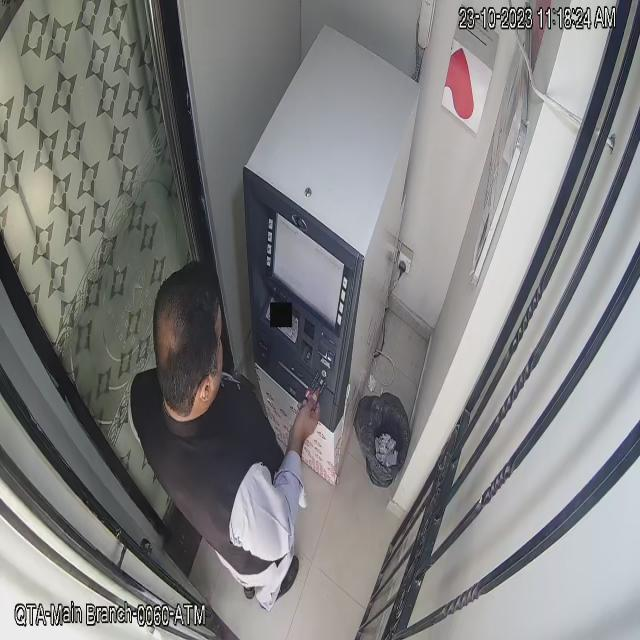atm-card: (302, 367, 330, 412)
